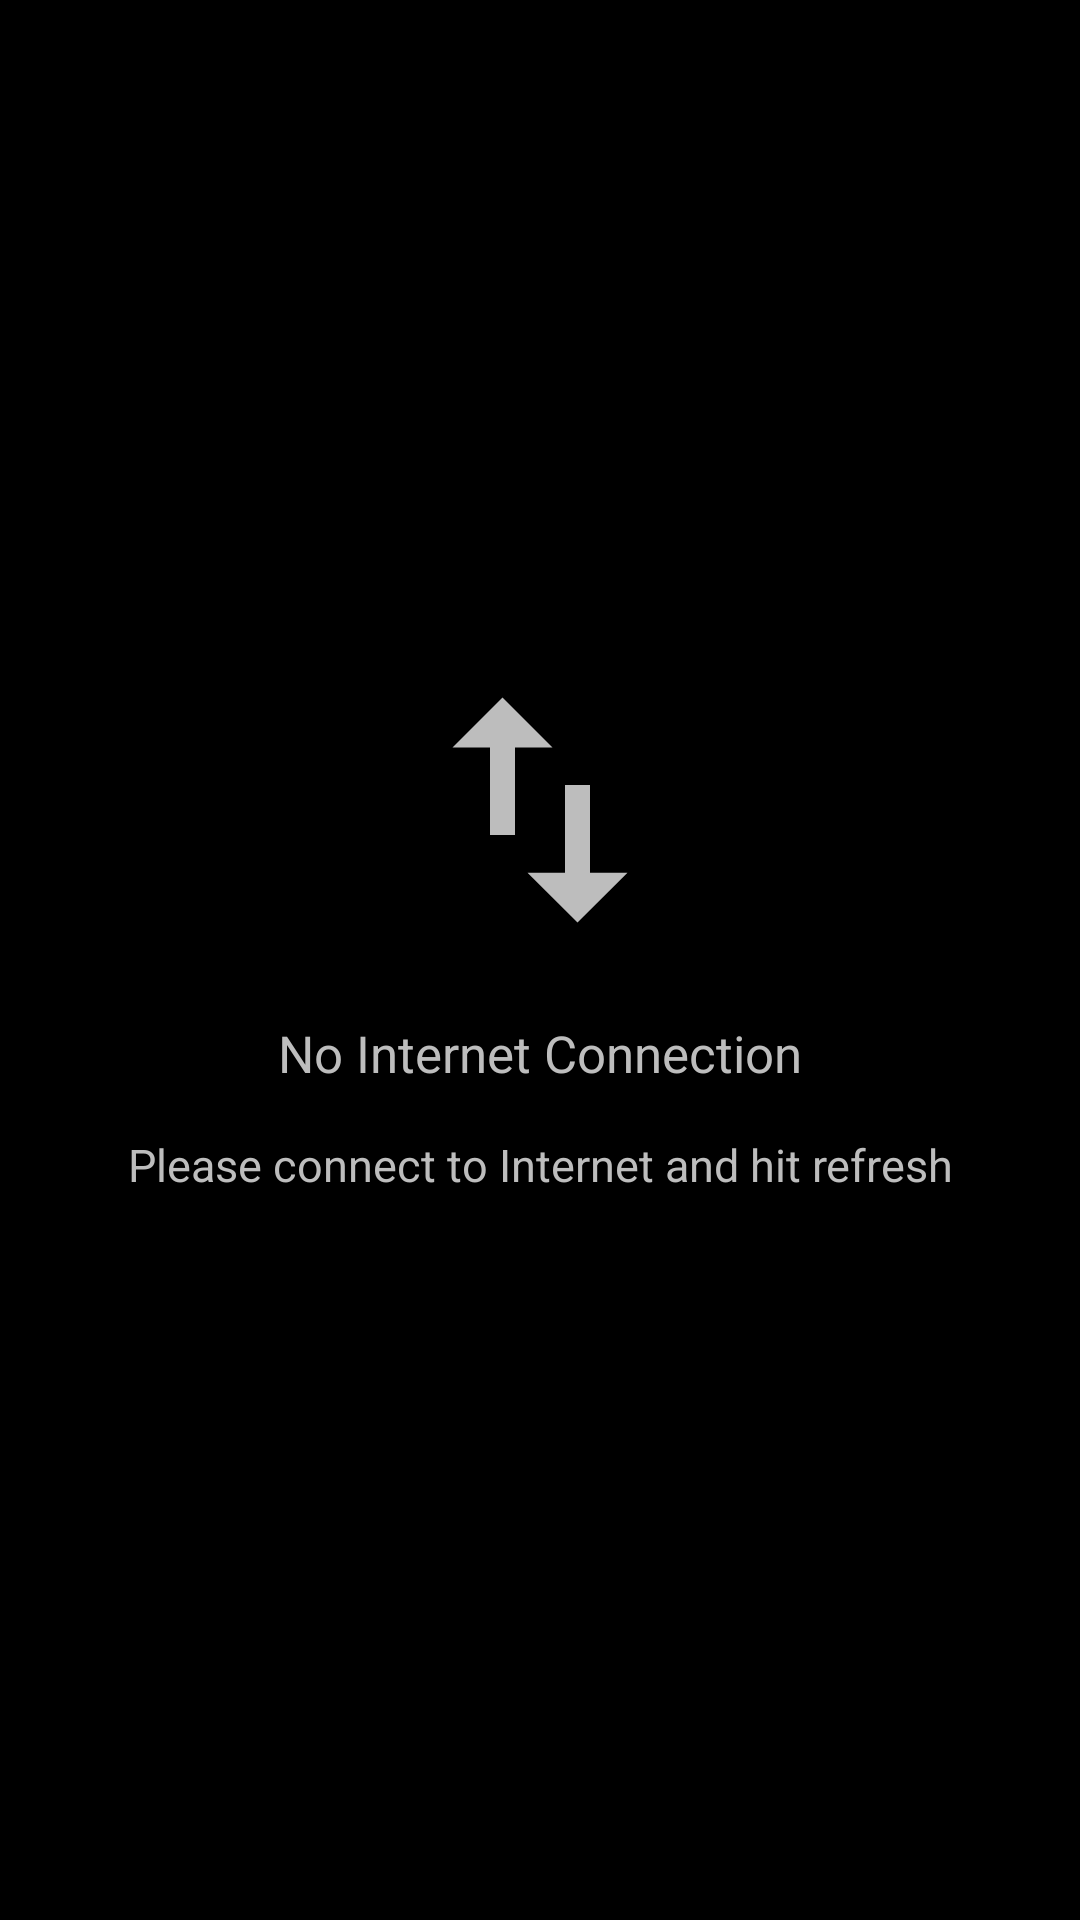

Icon click points for this 1080x1920 phone screenshot, format (x,y):
import export: (540,810)
